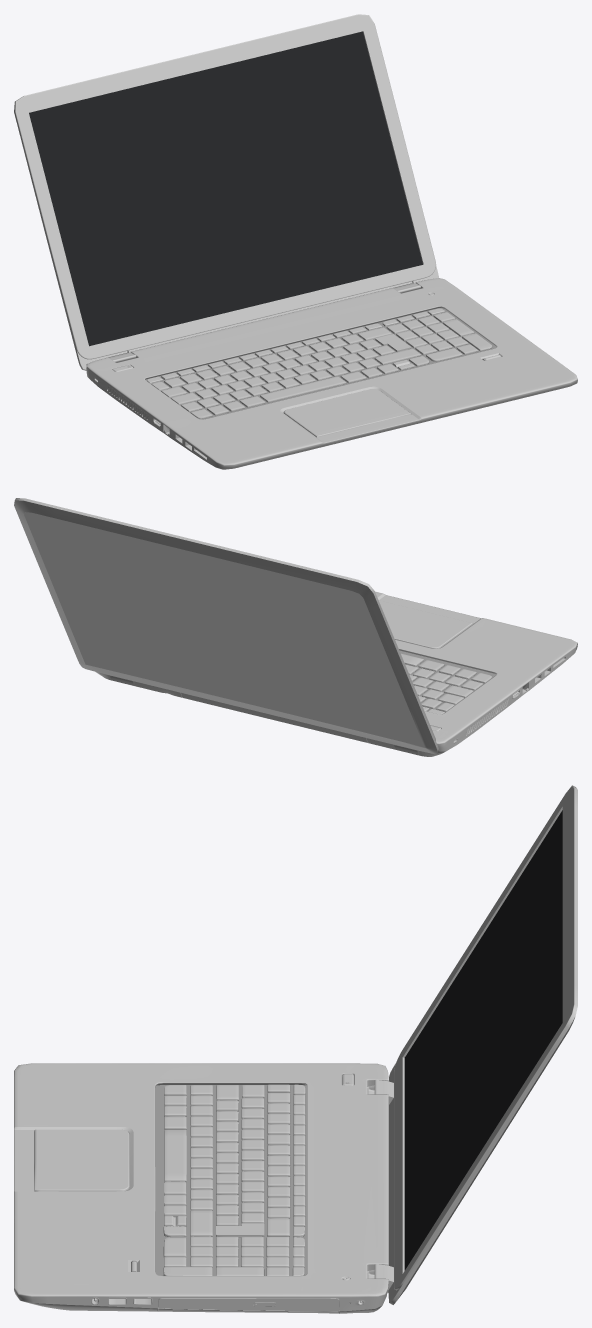
Rendered from Laptop_High-Polay_HP_BI_2_obj.obj.
3 renders of one model, top to bottom at view 1: azimuth 30°, elevation 25°; view 2: azimuth 150°, elevation 25°; view 3: azimuth 270°, elevation 25°, orthographic. The views are drawn at different scales.
Visible parts, largest first — view 1: Plane.002, Plane.005_Plane; view 2: Plane.002, Plane.005_Plane; view 3: Plane.005_Plane, Plane.002.
Part boxes in pixels (x1,y1,x2,y2): Plane.002: (14,14,438,370); Plane.005_Plane: (86,278,577,469); Plane.002: (14,498,438,754); Plane.005_Plane: (95,591,577,756); Plane.005_Plane: (14,1063,388,1313); Plane.002: (374,785,577,1304).
Bounding box in the file's own units: 5.02 × 3.12 × 5.13.
